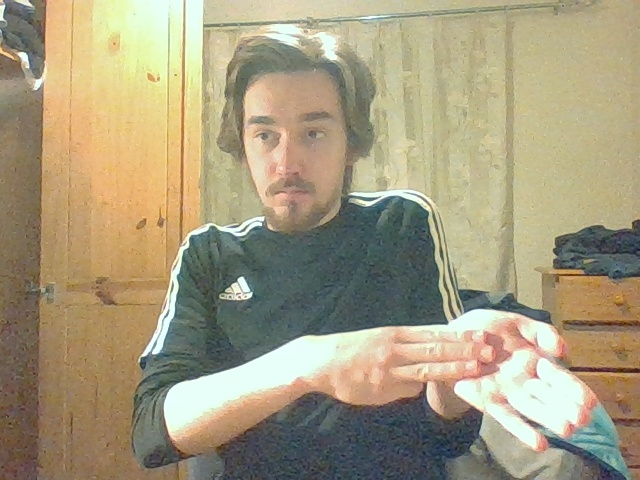mother: (432, 309, 600, 451)
